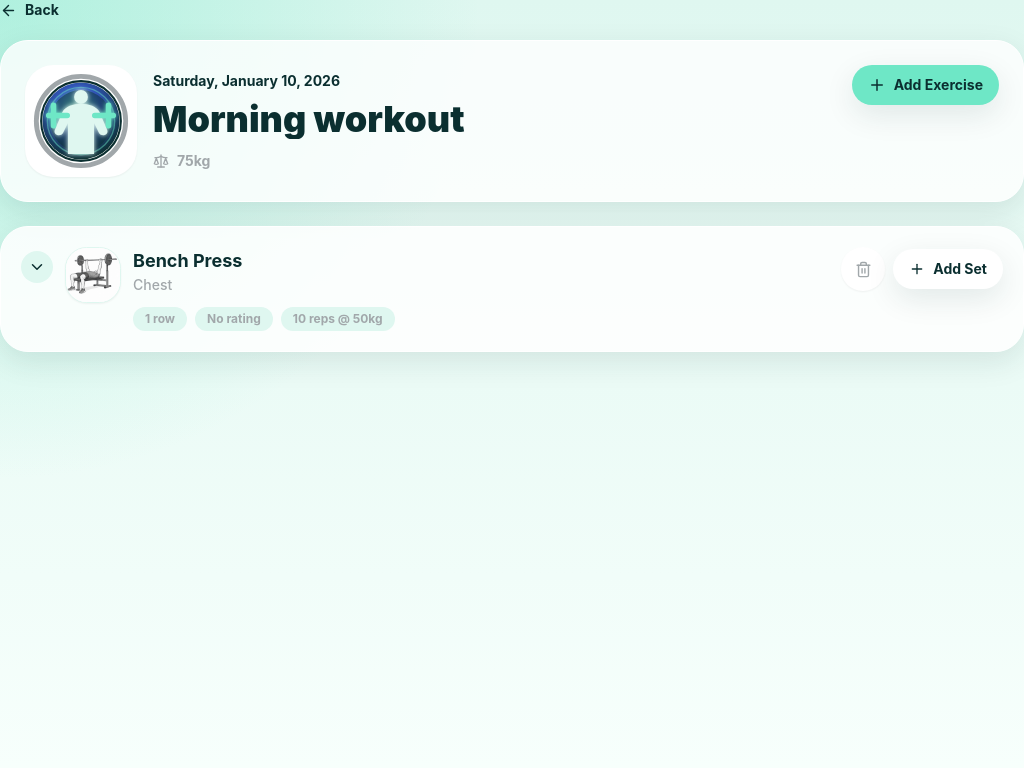
Test: adds grouped sets and leaves the exercise expanded after reloading
Click the button "Add Set" at (948,269), box x1=893 y1=249 x2=1003 y2=289
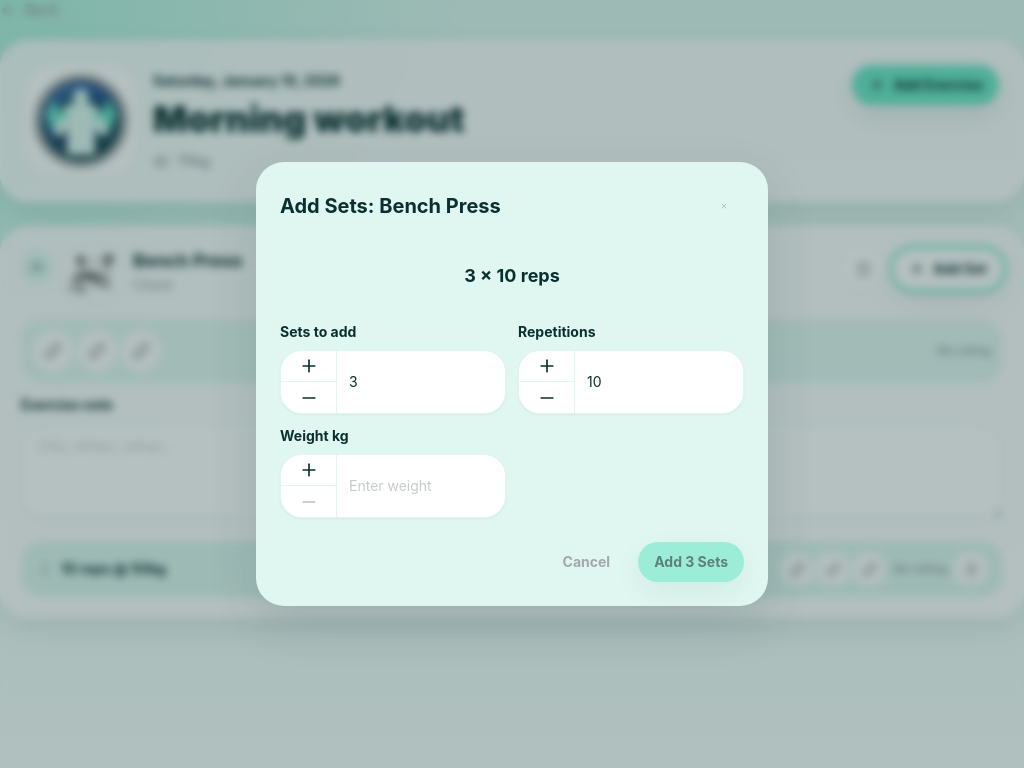
Type "60" into the field labelled "Weight kg" at (393,486), box x1=280 y1=454 x2=506 y2=518
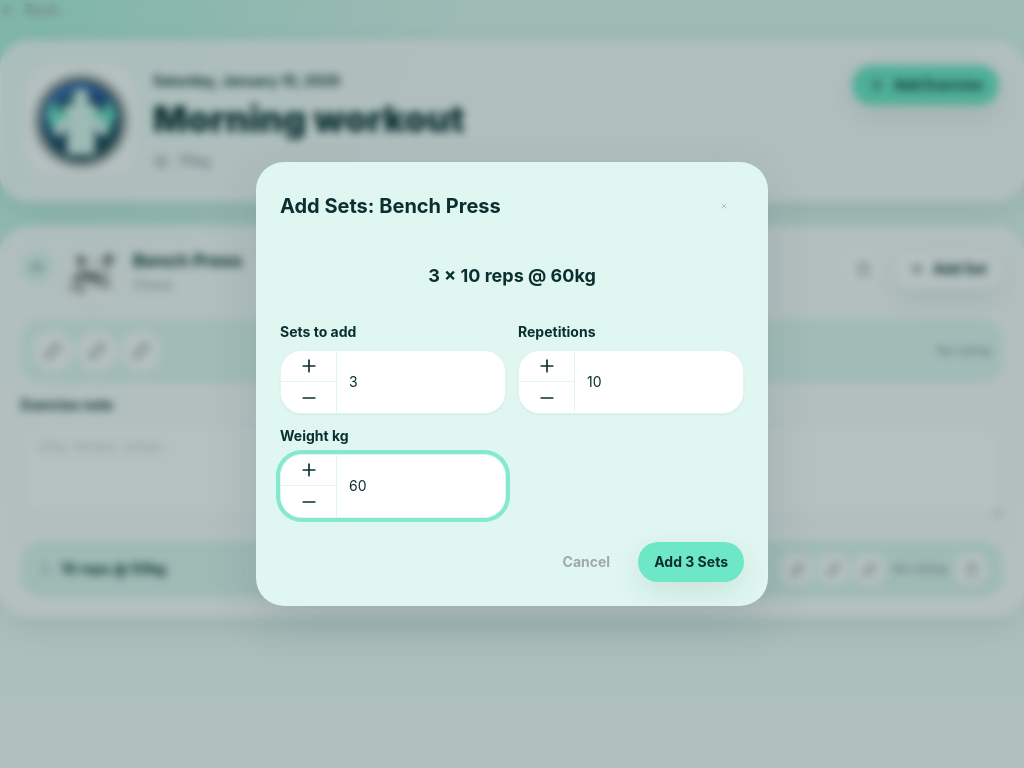
Click the button "Add 3 Sets" at (691,562), box x1=638 y1=542 x2=744 y2=582
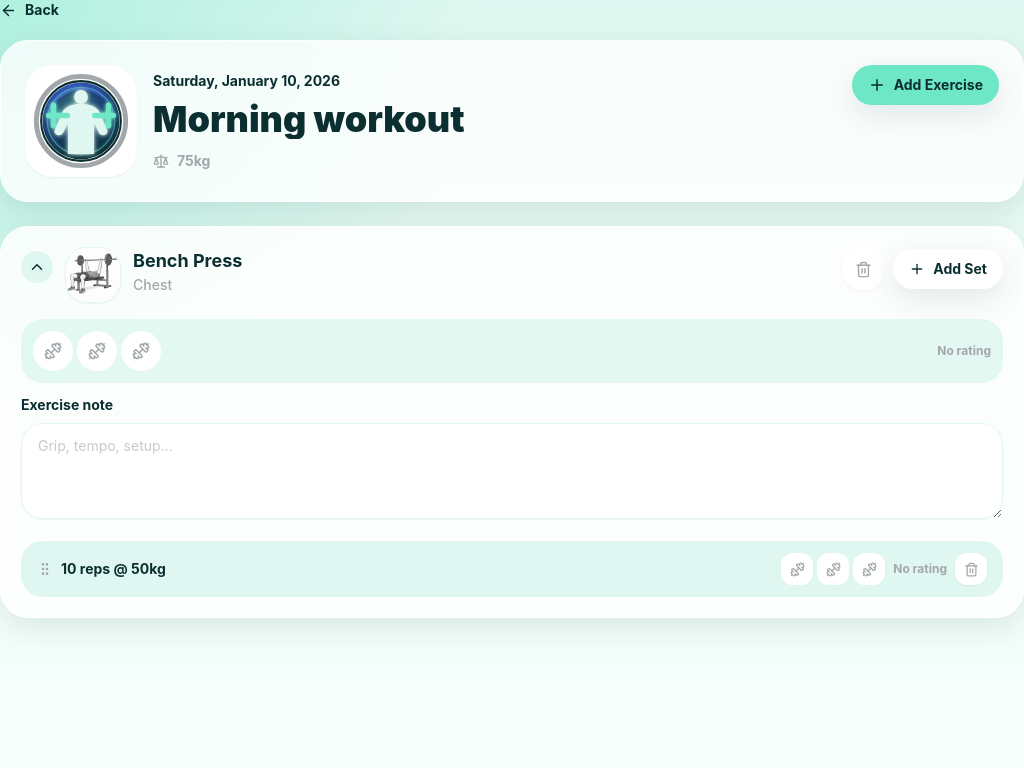
Expected: the text box labelled "Exercise note" is shown, x1=21 y1=423 x2=1003 y2=519
Expected: the label labelled "Weight kg" is gone
